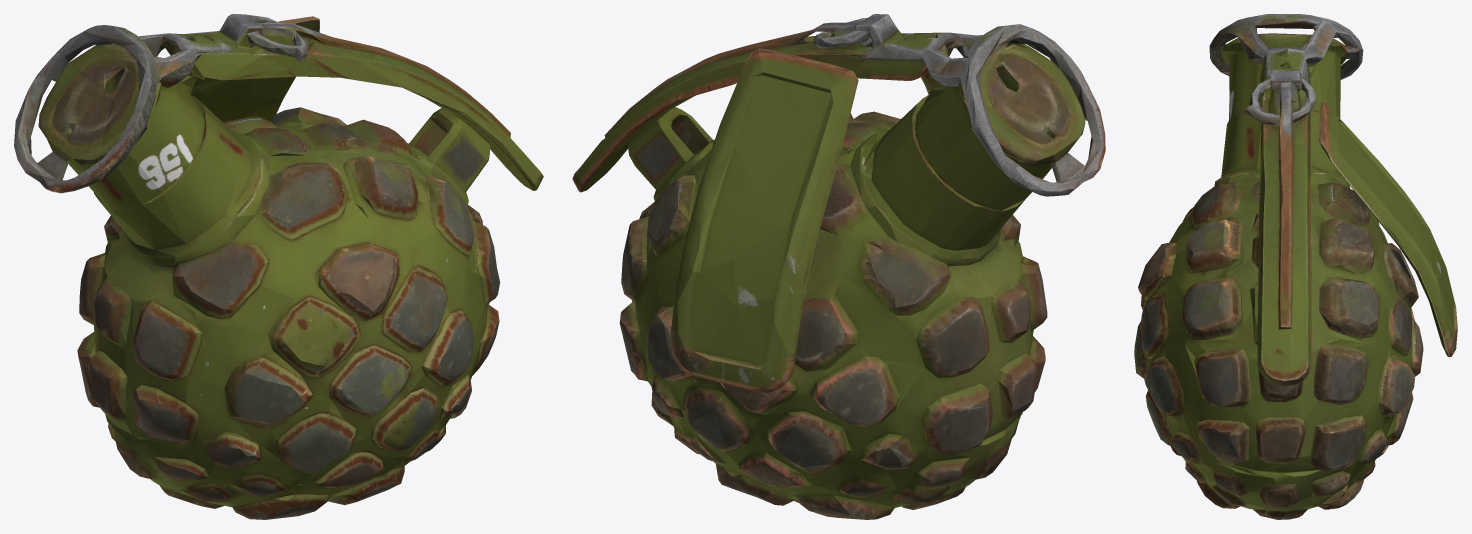
File: grenade.glb
3 renders of one model, left to right at view 1: azimuth 30°, elevation 25°; view 2: azimuth 150°, elevation 25°; view 3: azimuth 270°, elevation 25°, orthographic. The views are drawn at different scales.
Size of the model in its own units: 1.9 by 1.82 by 1.27.
Materials: 1 (1 with a texture image).
